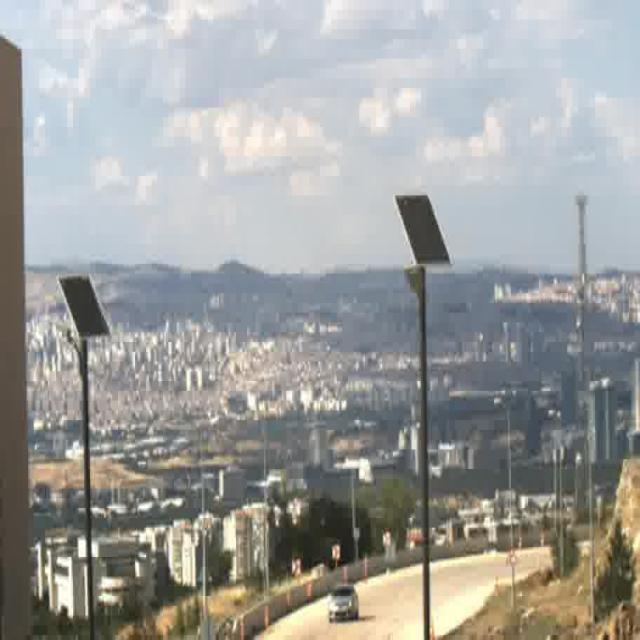Car: (328, 589, 358, 623)
